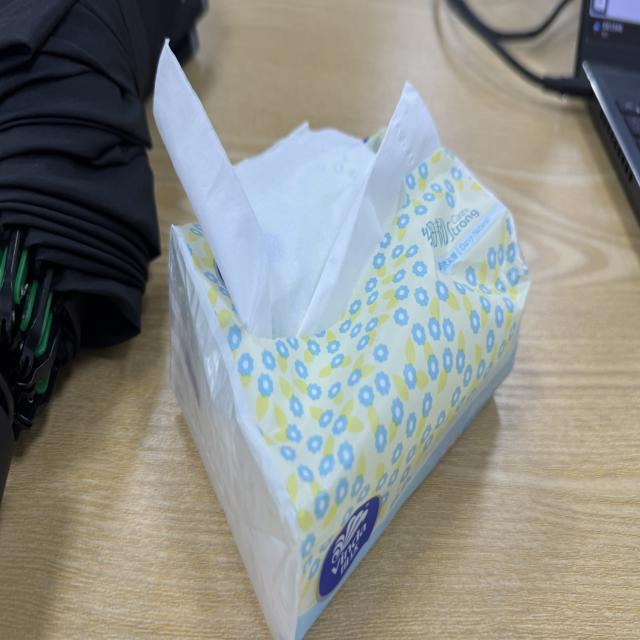tissue: (170, 87, 529, 639), (170, 151, 528, 639), (154, 45, 439, 337), (298, 83, 440, 335), (154, 43, 272, 337), (235, 124, 375, 336)
